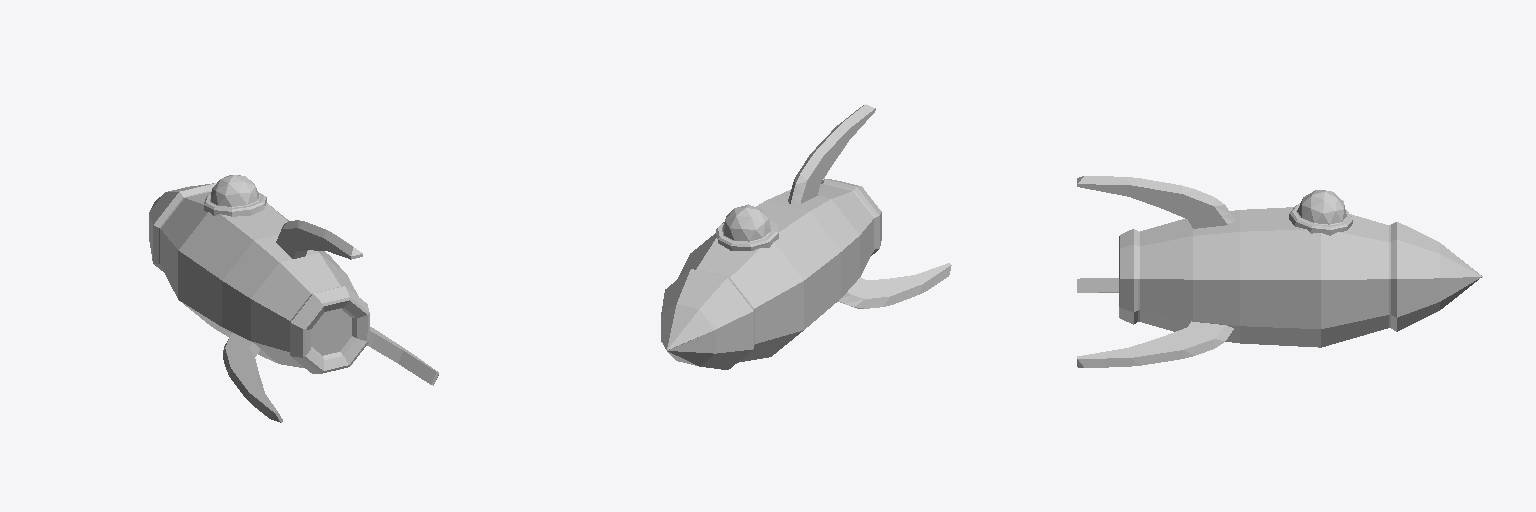
The model's file is rocket_basic.sgm.obj.
The picture shows the model from 3 angles: view 1: azimuth 30°, elevation 25°; view 2: azimuth 150°, elevation 25°; view 3: azimuth 270°, elevation 25°; orthographic projection.
Bounding box in the file's own units: 0.2409 × 0.221 × 0.5048.